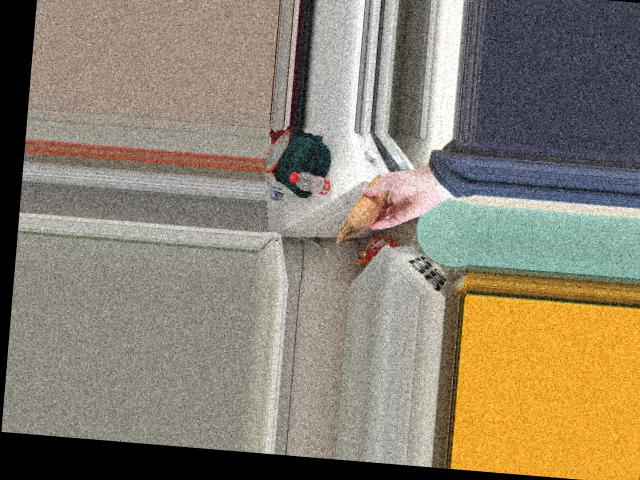sweet_potato: (346, 179, 395, 229)
